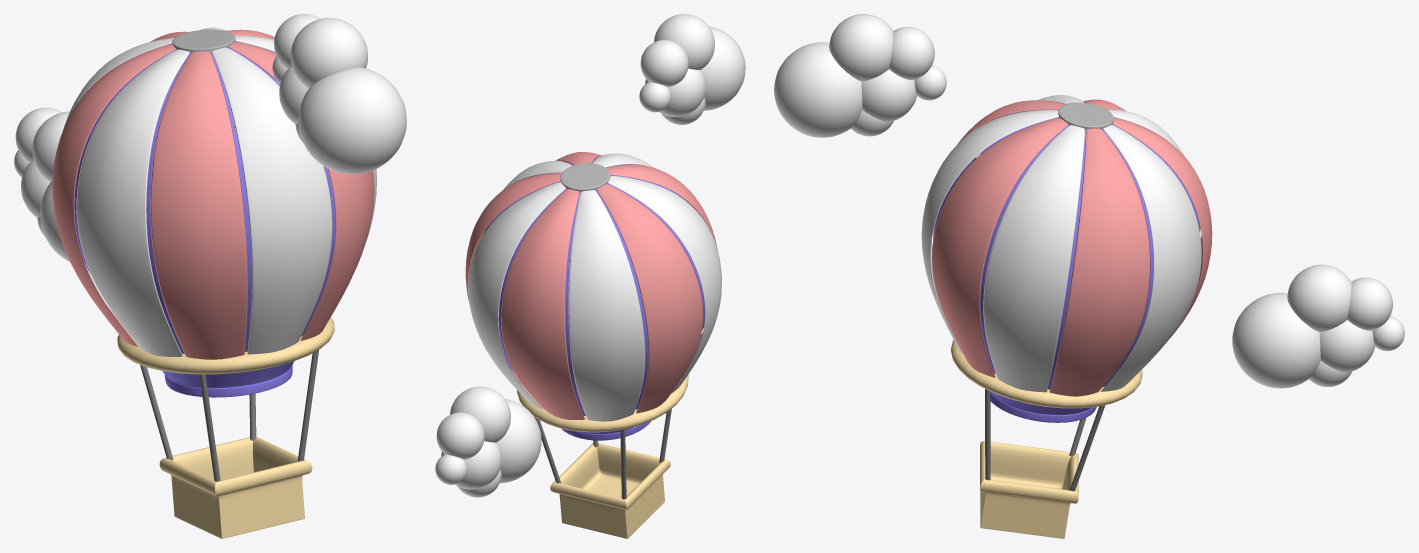
The model's file is hot air balloon.fbx.
3 renders of one model, left to right at view 1: azimuth 30°, elevation 25°; view 2: azimuth 150°, elevation 25°; view 3: azimuth 270°, elevation 25°, orthographic. The views are drawn at different scales.
Parts seen in each view (by area): view 1: polySurface28.001, pSphere8, polySurface34, polySurface36, pSphere9, polySurface35, polySurface18, polySurface30, polySurface31, polySurface33; view 2: polySurface28.001, pSphere9, pSphere8, polySurface34, polySurface36, polySurface35, polySurface18, polySurface33; view 3: polySurface28.001, pSphere8, pSphere9, polySurface34, polySurface36, polySurface35, polySurface18.
Boxes of the visible parts, x1=… form: polySurface28.001: x1=52, y1=27, x2=376, y2=359; pSphere8: x1=272, y1=14, x2=406, y2=174; polySurface34: x1=159, y1=436, x2=312, y2=538; polySurface36: x1=74, y1=41, x2=335, y2=397; pSphere9: x1=14, y1=107, x2=69, y2=261; polySurface35: x1=117, y1=317, x2=334, y2=374; polySurface18: x1=172, y1=29, x2=235, y2=52; polySurface30: x1=199, y1=374, x2=220, y2=481; polySurface31: x1=297, y1=350, x2=318, y2=461; polySurface33: x1=140, y1=365, x2=173, y2=460; polySurface28.001: x1=465, y1=152, x2=721, y2=421; pSphere9: x1=435, y1=386, x2=541, y2=497; pSphere8: x1=639, y1=14, x2=745, y2=124; polySurface34: x1=550, y1=443, x2=670, y2=538; polySurface36: x1=483, y1=158, x2=704, y2=440; polySurface35: x1=517, y1=374, x2=688, y2=432; polySurface18: x1=560, y1=163, x2=610, y2=192; polySurface33: x1=620, y1=429, x2=626, y2=499; polySurface28.001: x1=921, y1=95, x2=1212, y2=396; pSphere8: x1=774, y1=14, x2=946, y2=137; pSphere9: x1=1232, y1=264, x2=1404, y2=388; polySurface34: x1=980, y1=441, x2=1078, y2=538; polySurface36: x1=934, y1=103, x2=1199, y2=422; polySurface35: x1=951, y1=340, x2=1142, y2=408; polySurface18: x1=1058, y1=102, x2=1113, y2=129.
Bounding box in the file's own units: 218 × 425 × 482.
